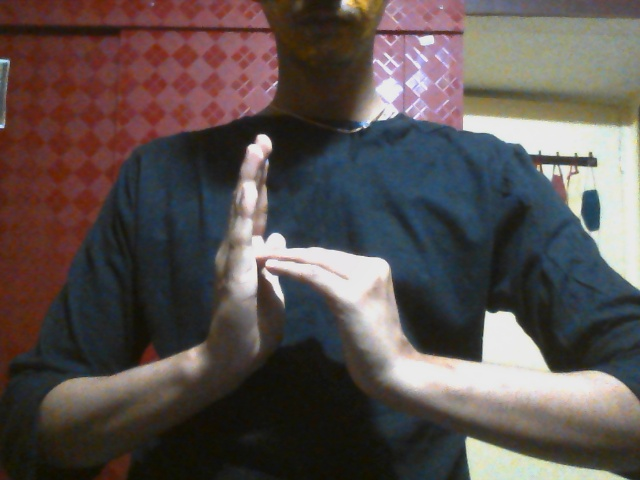Z: (207, 133, 417, 407)
